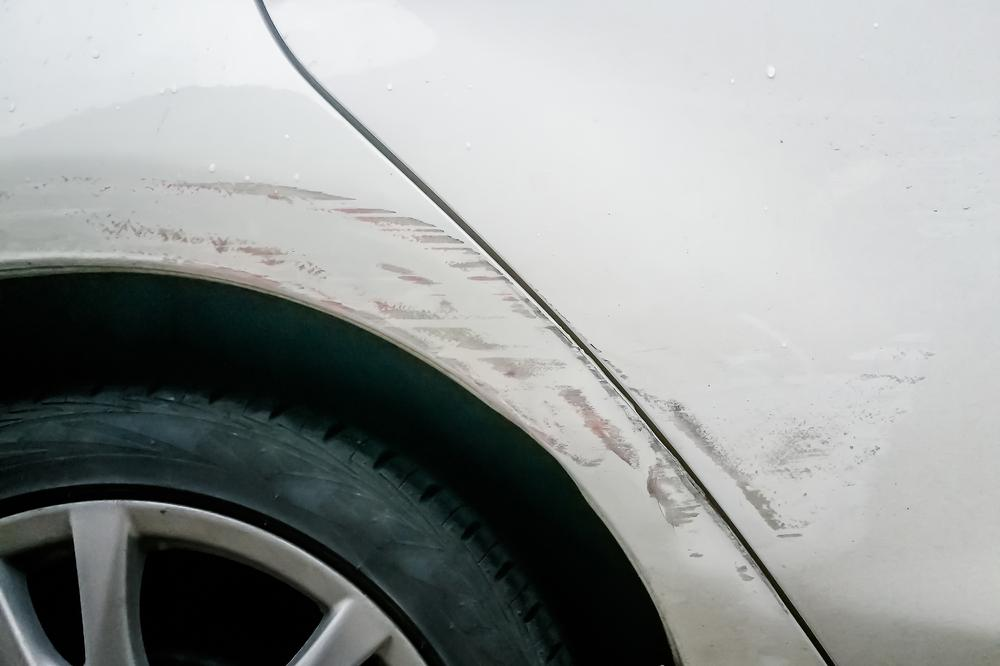scratch: (79, 168, 762, 586), (599, 346, 938, 542)
